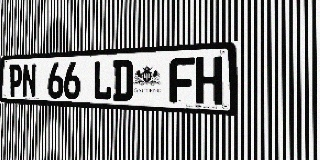6: (64, 62, 81, 99), (48, 62, 64, 99)
D: (112, 60, 133, 101)
F: (170, 57, 195, 104)
H: (195, 56, 223, 105)
L: (93, 60, 112, 101)
N: (22, 63, 36, 98)
P: (9, 64, 22, 97)
